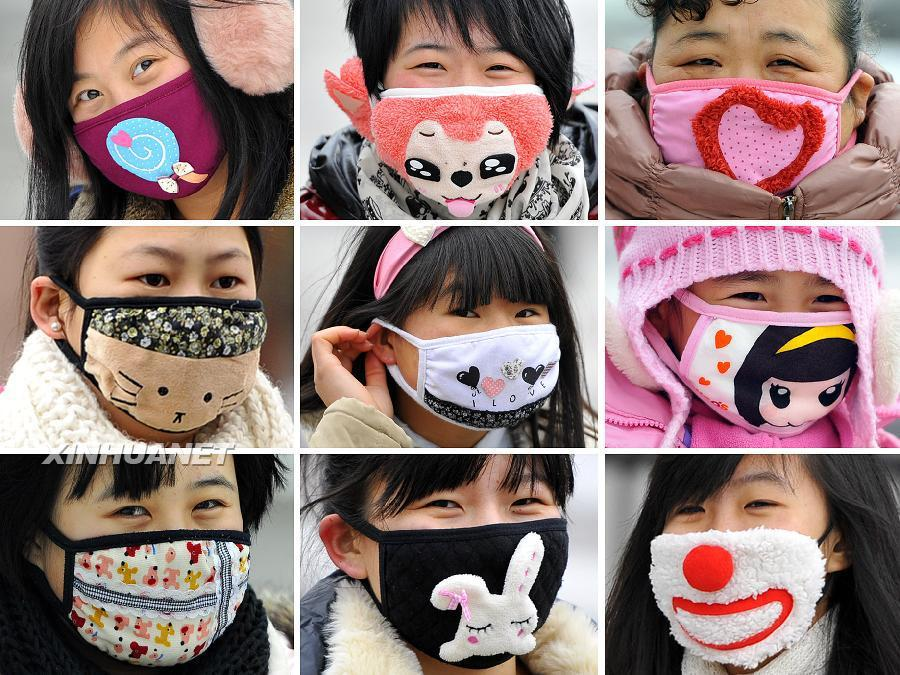OK: (359, 472, 559, 672), (85, 241, 280, 436), (650, 471, 834, 655), (681, 258, 864, 441), (679, 17, 855, 193), (84, 479, 253, 648), (54, 35, 218, 199), (383, 27, 543, 187), (403, 269, 562, 428)
